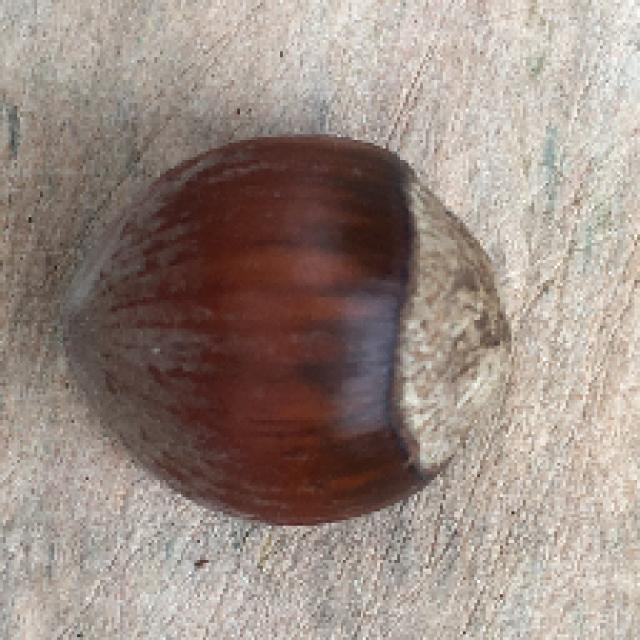QualityHazelnut: (58, 134, 522, 531)
